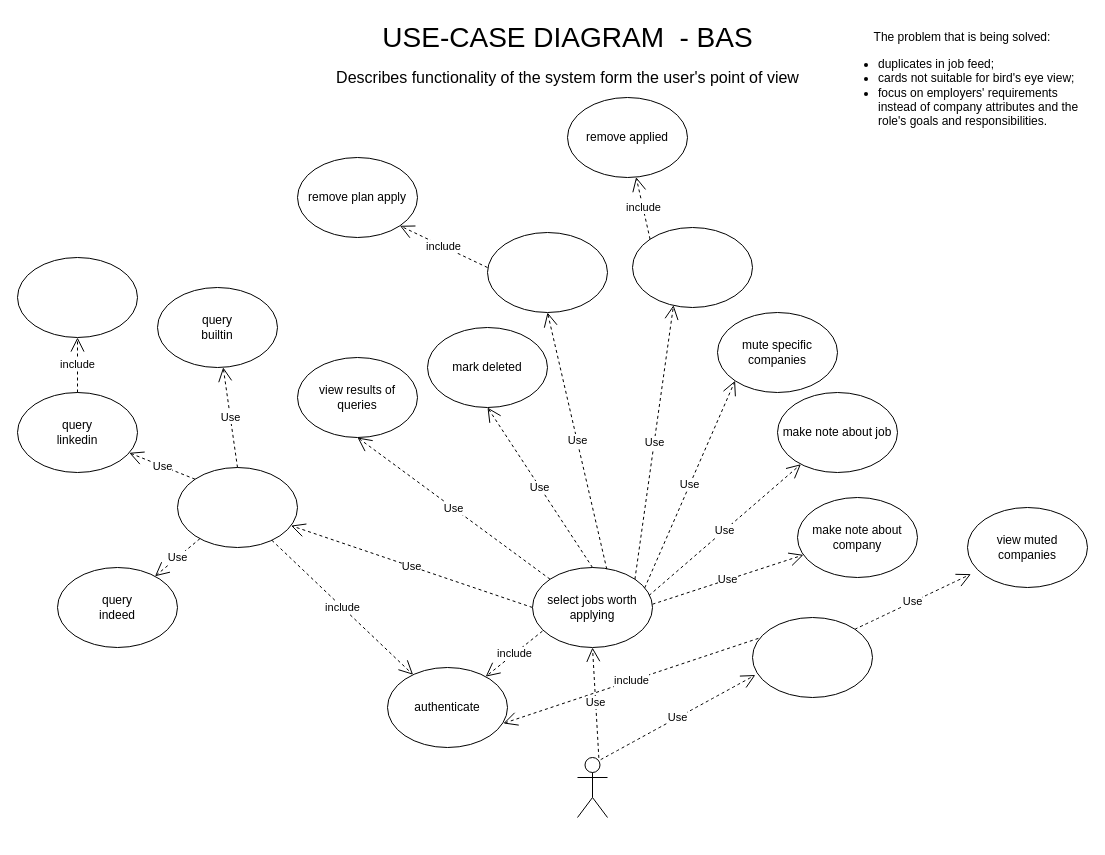
Image size: 1105x855. Some labels were removed from this diagram. Here are the shapes that lost their labels. From the top down, the centre of each, then its label:
At point (547, 272): "mark plan apply".
At point (692, 267): "mark applied".
At point (77, 297): "update linkedin user".
At point (237, 507): "query jobs".
At point (812, 657): "unmute muted company".
At point (592, 787): "Job Seeker".
